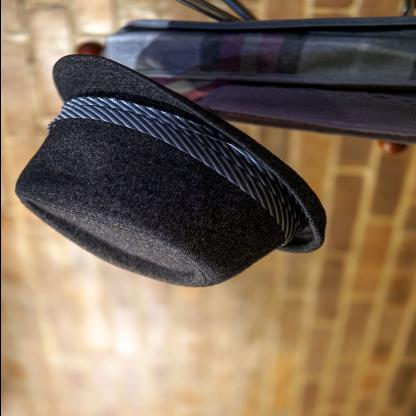hat: (12, 50, 336, 292)
